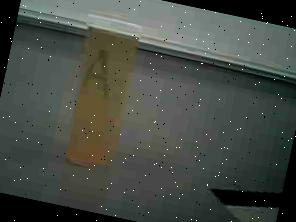Bottle A: (45, 3, 163, 186)
